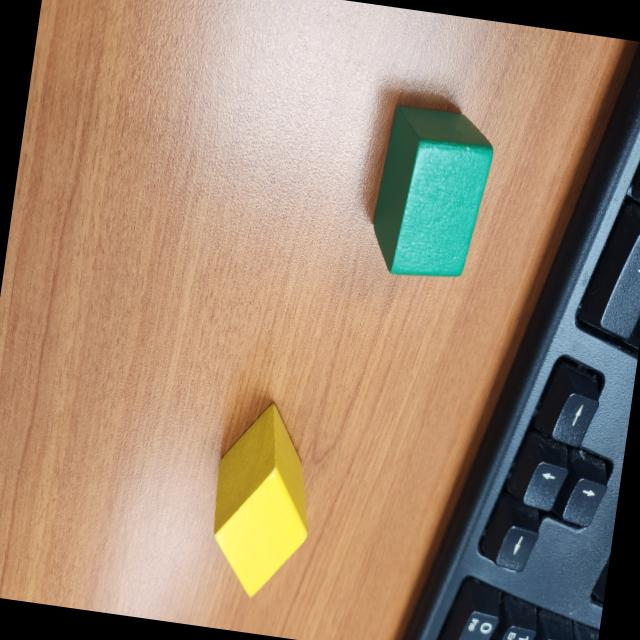green: (366, 102, 499, 285)
yellow: (200, 396, 325, 606)
